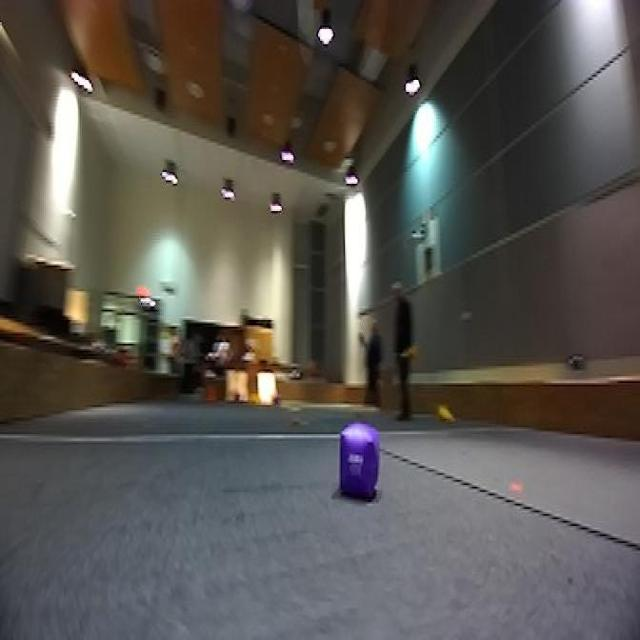frc_cone: (434, 396, 454, 426), (401, 342, 420, 363), (242, 390, 263, 407)
frc_cube: (336, 426, 377, 496), (228, 388, 243, 405), (271, 392, 284, 408)
